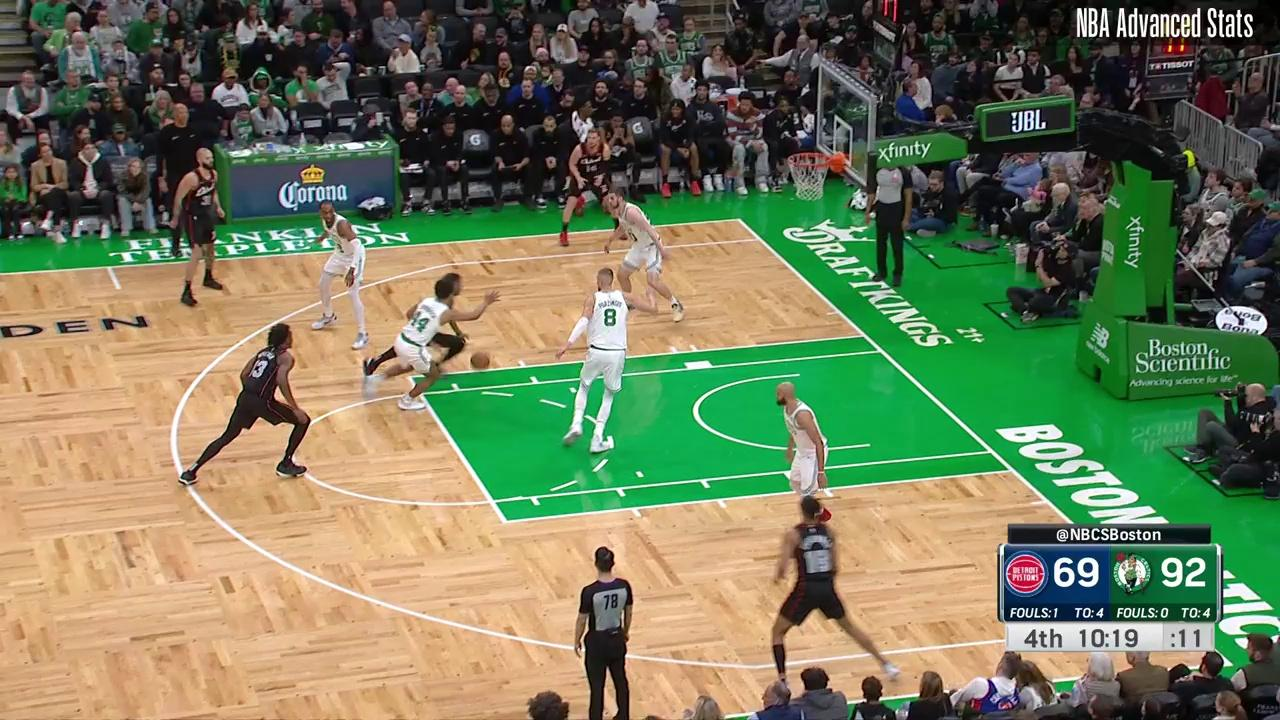3_sx: (754, 234, 766, 245)
b_dx: (1219, 655, 1235, 670)
b_sx: (732, 213, 745, 225)
free_adx: (498, 515, 512, 528)
free_asx: (402, 371, 417, 385), (113, 284, 126, 295)
free_bdx: (1004, 463, 1020, 476)
free_bsx: (857, 329, 871, 341)
referee: (568, 539, 638, 720), (865, 154, 918, 288)
team: (560, 272, 654, 451), (371, 275, 453, 417), (608, 191, 686, 326), (306, 204, 370, 350), (771, 381, 834, 520)
team1: (772, 498, 901, 685), (175, 324, 311, 487), (366, 271, 470, 372), (170, 149, 231, 306), (561, 127, 630, 245)
timer: (1076, 620, 1143, 651)
